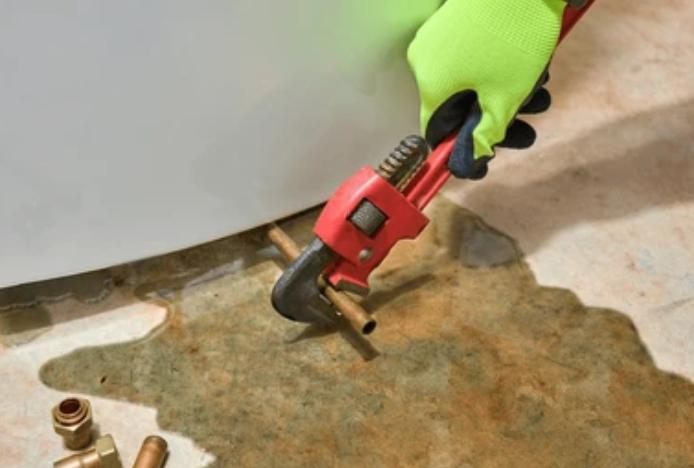water accumulation: (39, 189, 694, 468)
